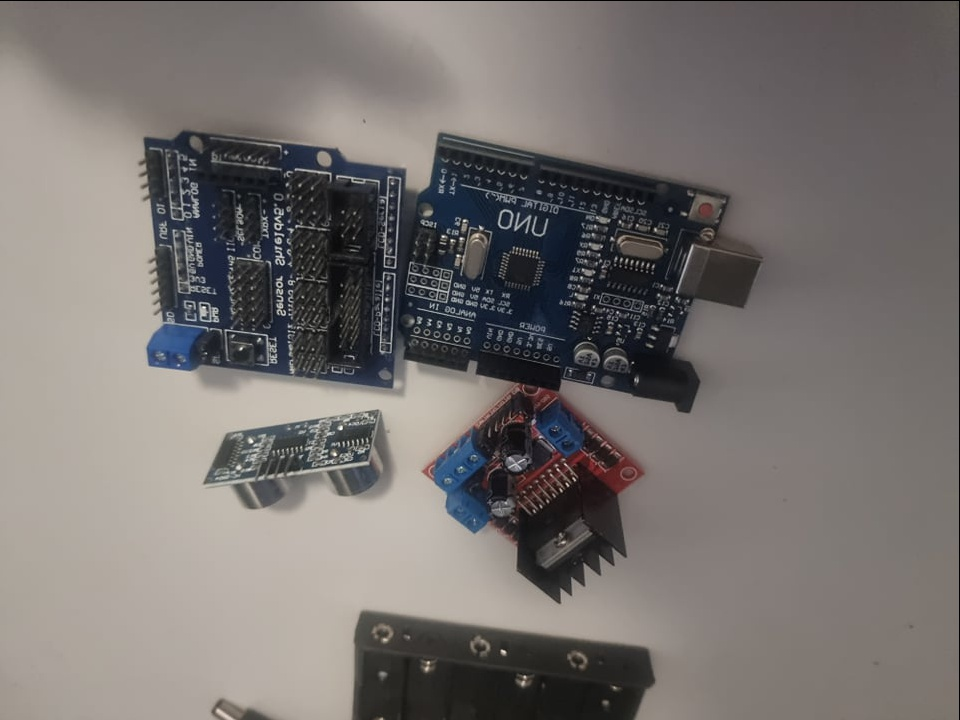5V EXPANSION: (140, 123, 399, 388)
BATTERY BOX: (325, 610, 665, 719)
MOTOR: (419, 385, 648, 603)
SENSOR: (201, 405, 385, 509)
UNO R3: (402, 124, 769, 417)
